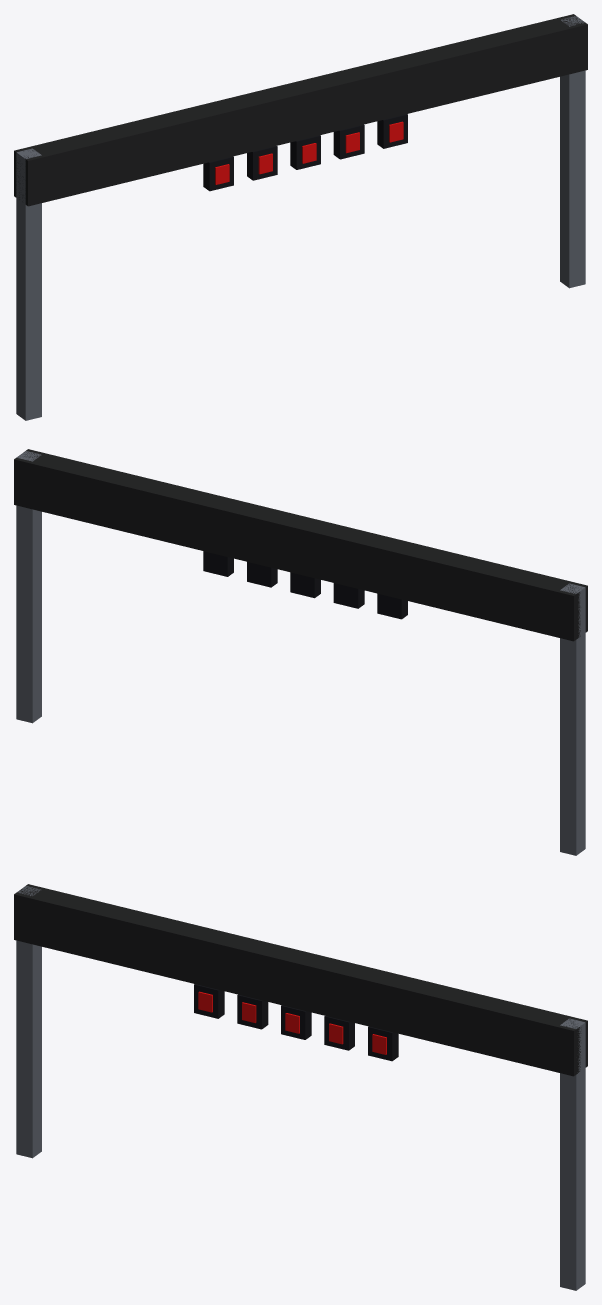
Rendered from start_gantry.glb.
3 views of the same model, one above another, from view 1: azimuth 30°, elevation 25°; view 2: azimuth 150°, elevation 25°; view 3: azimuth 330°, elevation 25° (orthographic).
Visible parts, largest first — view 1: chunk_0_0; view 2: chunk_0_0; view 3: chunk_0_0.
Boxes of the visible parts, x1=… form: chunk_0_0: x1=14, y1=14, x2=587, y2=420; chunk_0_0: x1=14, y1=449, x2=587, y2=855; chunk_0_0: x1=14, y1=884, x2=587, y2=1290.
Size of the model in its own units: 20.6 by 9.2 by 1.01.
